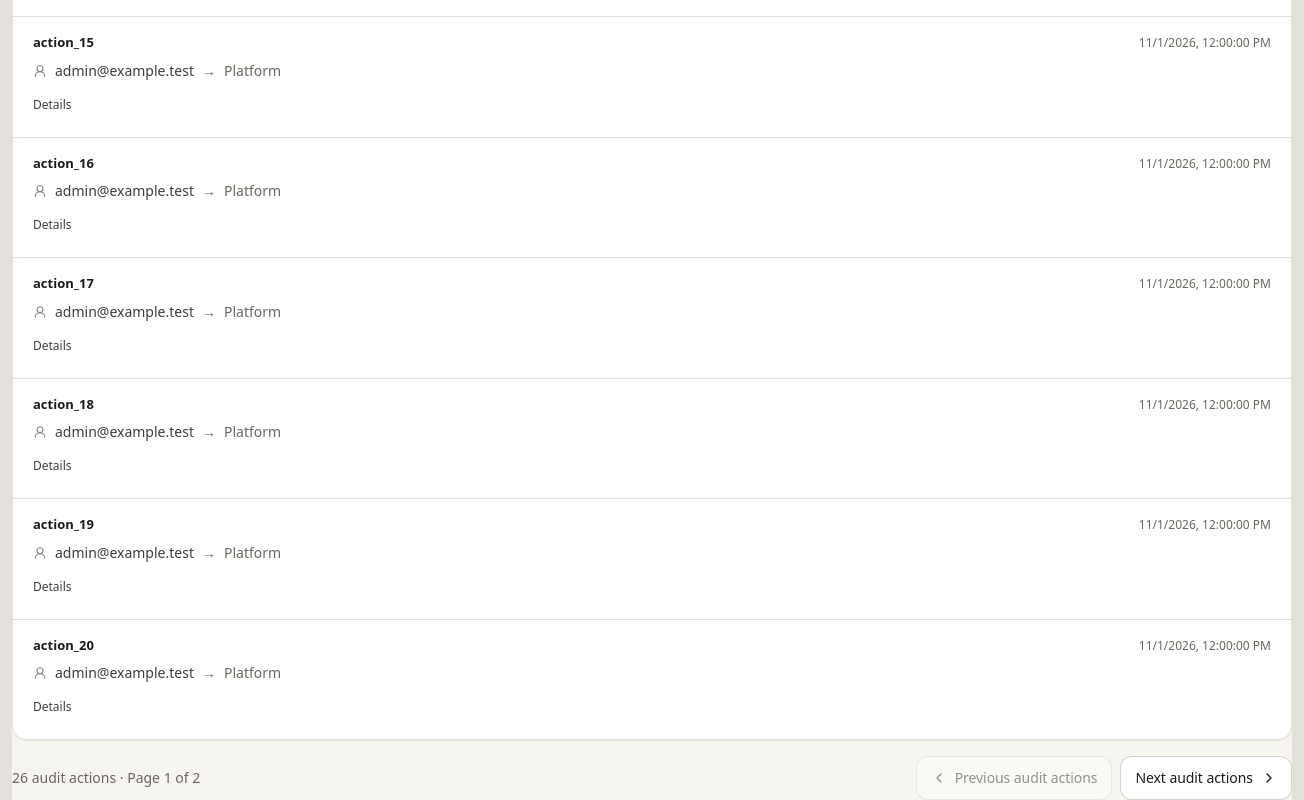
bounded super-admin audit history › preserves all-page metadata and exposes all26 records through bounded pages
(page scrolled)
Expected: the text "26 audit actions · Page 1 of 2" is shown, [12,768,200,788]
Step 1. Click the button "Next audit actions" → (1206, 778), box [1120,756,1292,799]
(page scrolled)
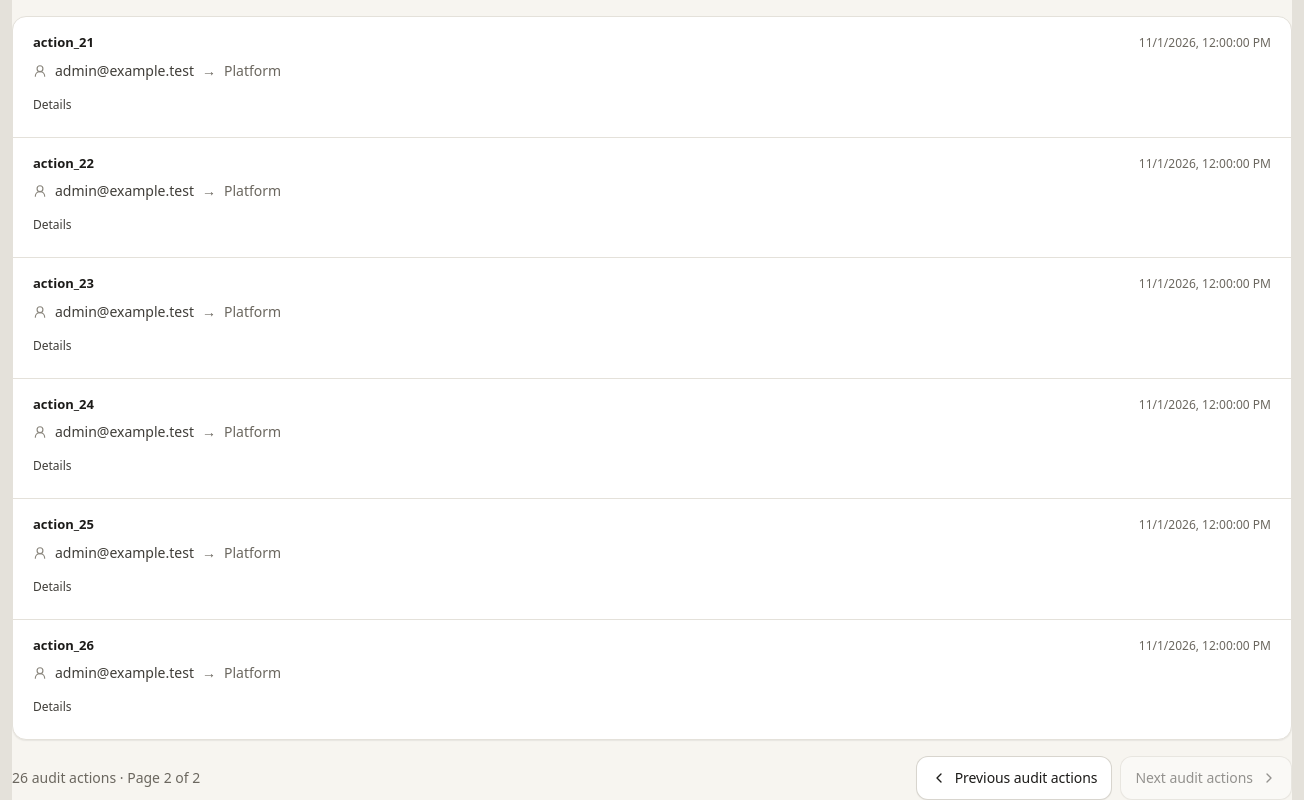
Expected: the text "action_1" is not shown
Expected: the heading "action_26" is shown, [33,636,94,655]
Step 2. Click the button "Previous audit actions" → (1014, 778), box [916,756,1112,799]
(page scrolled)
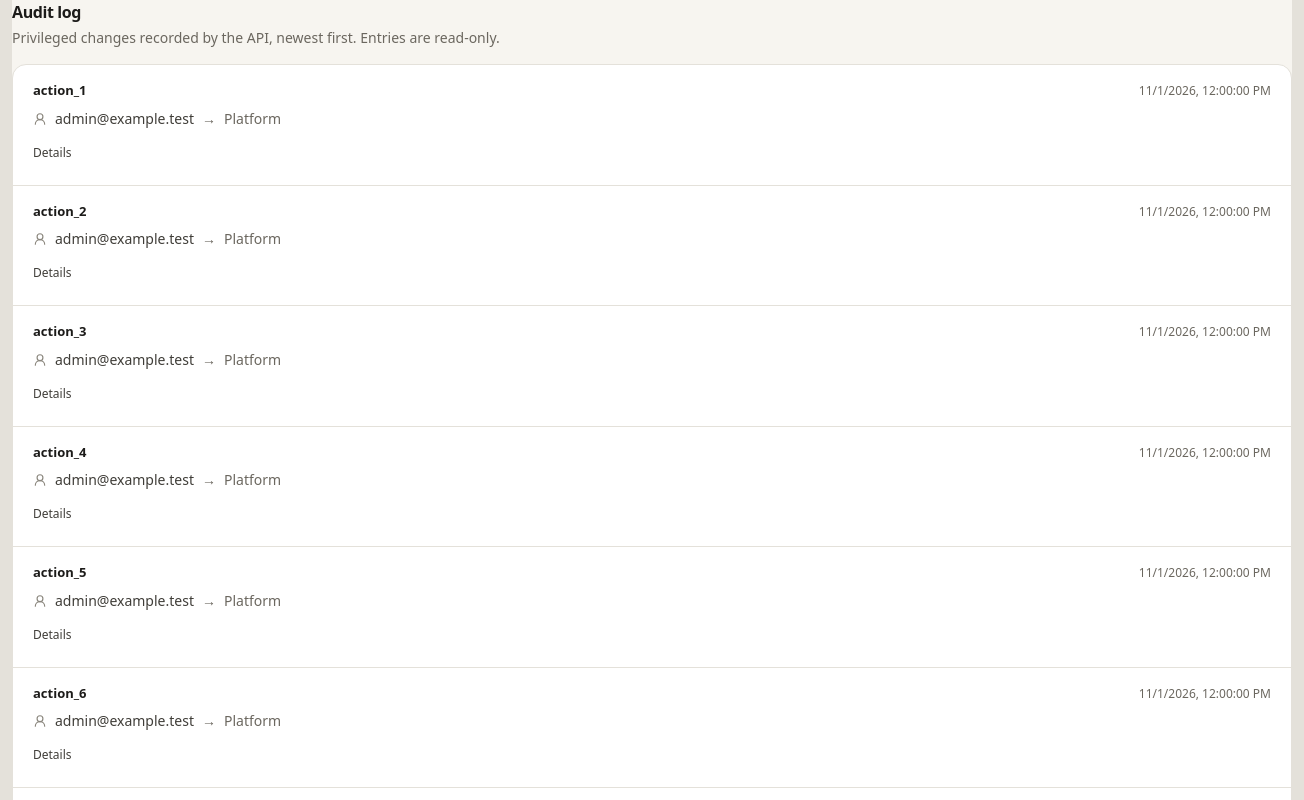
Expected: the heading "action_1" is shown, [33,81,86,100]
